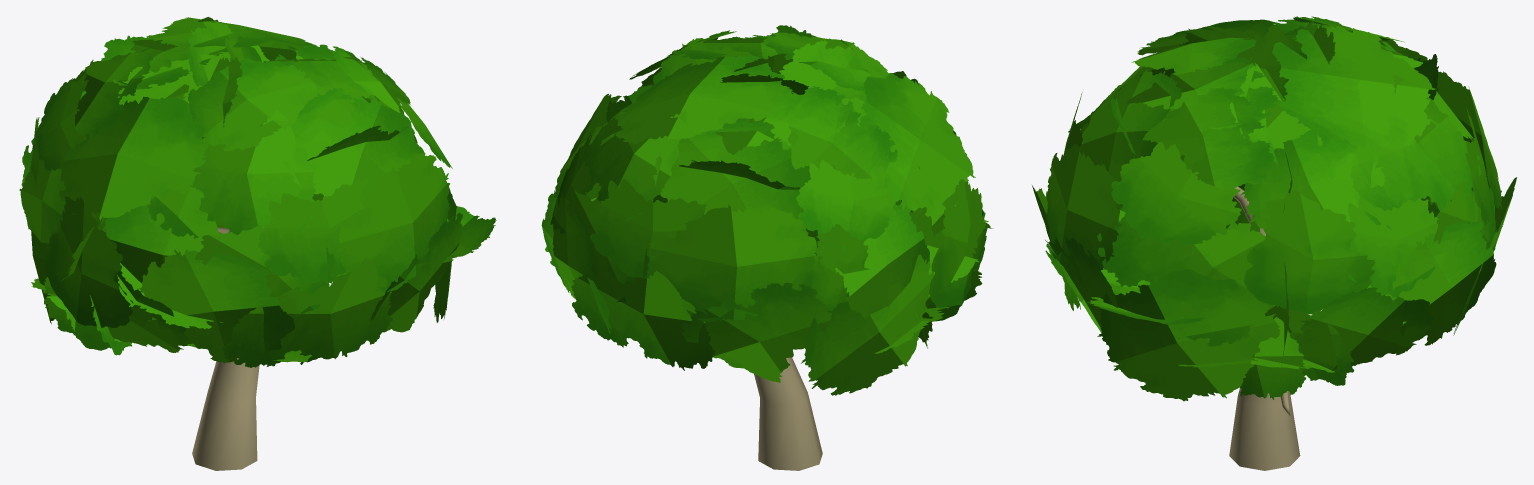
File: OakTree_v1.fbx
The picture shows the model from 3 angles, left to right: view 1: azimuth 30°, elevation 25°; view 2: azimuth 150°, elevation 25°; view 3: azimuth 270°, elevation 25°; orthographic projection. The views are drawn at different scales.
Visible parts, largest first — view 1: Leafs, OakTree_v1, TreeTop; view 2: Leafs, OakTree_v1, TreeTop; view 3: Leafs, OakTree_v1, TreeTop.
Boxes of the visible parts, x1,y1,x2,y2 form: Leafs: (19, 17, 496, 367); OakTree_v1: (192, 392, 257, 470); TreeTop: (207, 227, 259, 404); Leafs: (541, 25, 993, 395); OakTree_v1: (758, 393, 822, 470); TreeTop: (754, 357, 807, 405); Leafs: (1032, 16, 1516, 401); OakTree_v1: (1229, 395, 1300, 470); TreeTop: (1233, 186, 1290, 415).
Size of the model in its own units: 42.68 by 41.54 by 42.41.
